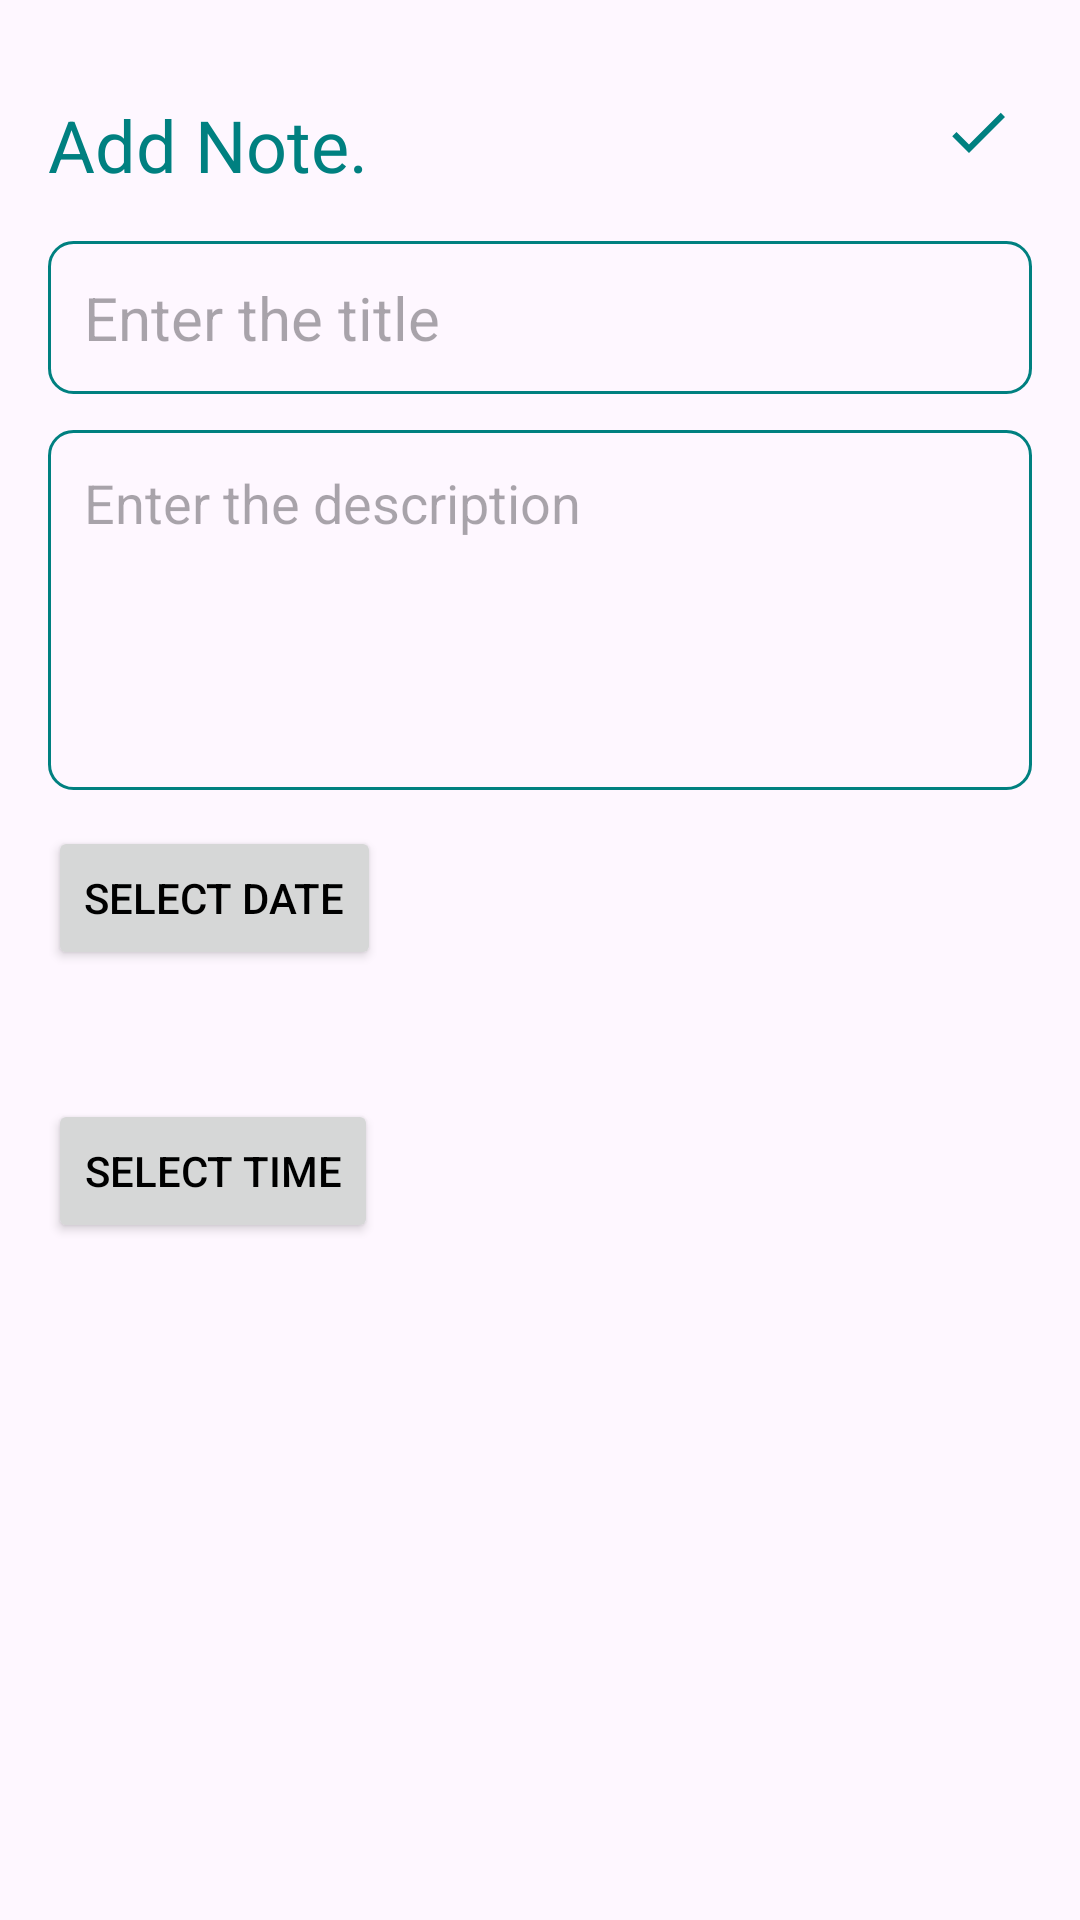

Named icons in this screenshot (1080px x 1920px) and their centers, point (x, y):
check: point (978, 133)
